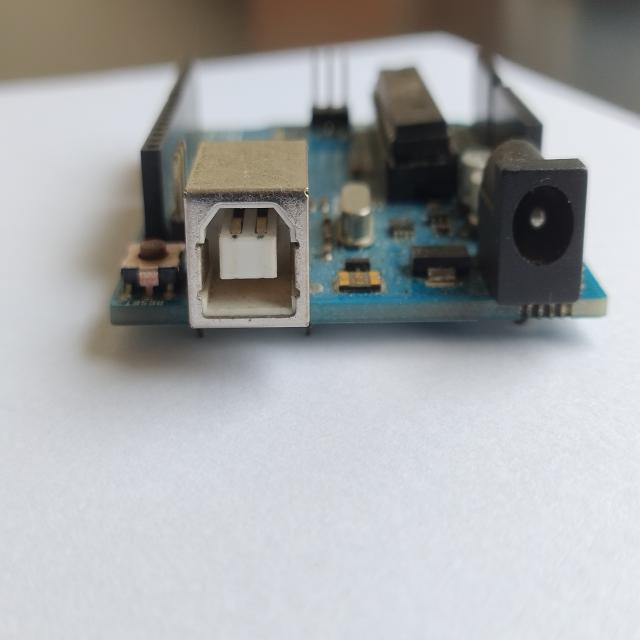arduino: (108, 44, 614, 348)
